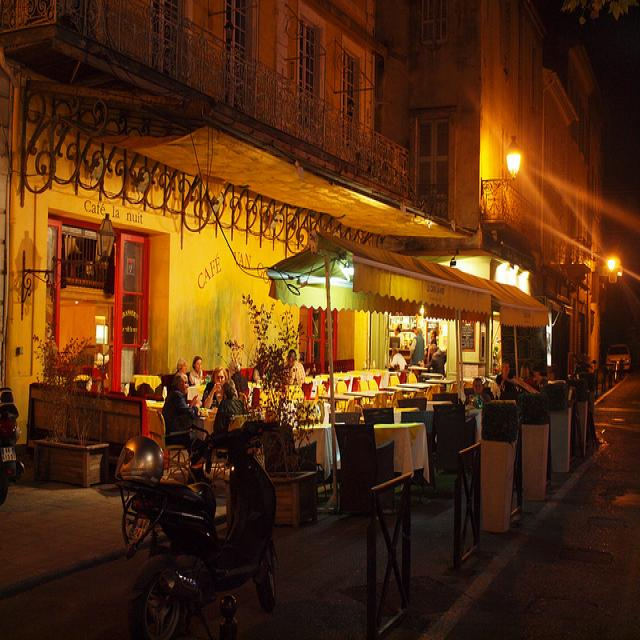Motorbike: (102, 404, 284, 640), (2, 372, 30, 536)
People: (163, 368, 196, 443), (422, 340, 451, 395), (282, 342, 310, 397), (185, 355, 212, 399), (251, 351, 274, 402), (204, 367, 239, 400), (469, 362, 489, 409), (494, 353, 509, 404), (520, 359, 533, 393)
Table: (343, 410, 437, 481)
car: (601, 335, 638, 380)
chair: (326, 421, 410, 517), (428, 396, 477, 473), (398, 405, 439, 452), (319, 394, 361, 429), (355, 398, 397, 426), (325, 351, 367, 374), (398, 391, 432, 418), (294, 351, 324, 376), (426, 393, 464, 405)
